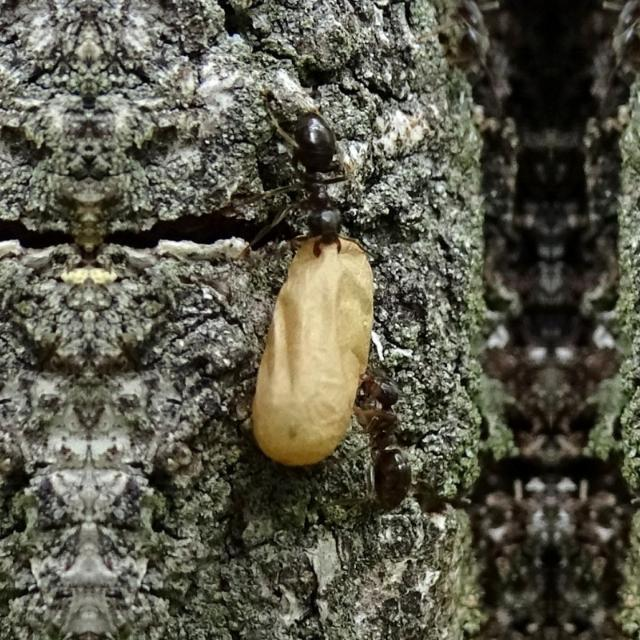Lasius: (240, 100, 362, 260)
